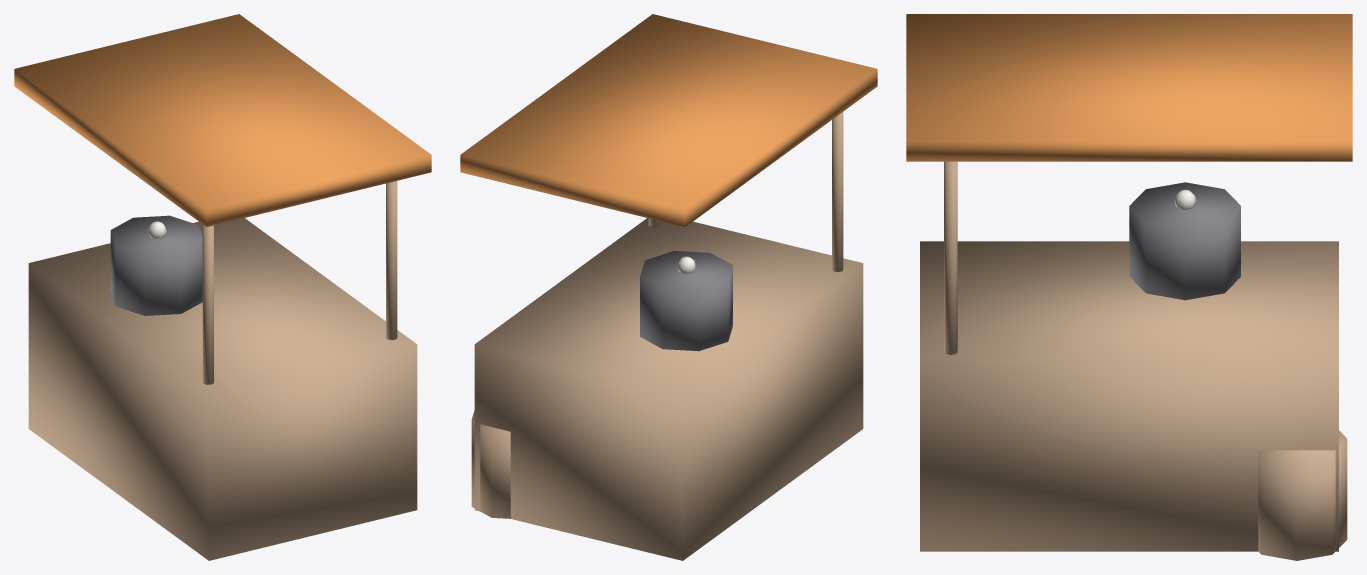
Rendered from food_stall.glb.
3 views of the same model, side by side, from view 1: azimuth 30°, elevation 25°; view 2: azimuth 150°, elevation 25°; view 3: azimuth 270°, elevation 25° (orthographic). The views are drawn at different scales.
Parts seen in each view (by area): view 1: counter, awning, soup_pot, p_l, p_r; view 2: counter, awning, soup_pot, stool, p_l; view 3: counter, awning, soup_pot, stool, p_r.
Boxes of the visible parts, left/top/right/bottom form: counter: left=28, top=218, right=417, bottom=560; awning: left=14, top=14, right=431, bottom=226; soup_pot: left=110, top=215, right=202, bottom=315; p_l: left=202, top=224, right=213, bottom=384; p_r: left=386, top=181, right=397, bottom=339; counter: left=474, top=218, right=863, bottom=560; awning: left=460, top=14, right=877, bottom=226; soup_pot: left=640, top=251, right=732, bottom=351; stool: left=471, top=410, right=510, bottom=518; p_l: left=832, top=112, right=843, bottom=271; counter: left=920, top=241, right=1338, bottom=551; awning: left=906, top=14, right=1352, bottom=161; soup_pot: left=1129, top=182, right=1240, bottom=300; stool: left=1258, top=430, right=1347, bottom=560; p_r: left=944, top=161, right=957, bottom=354.
Bounding box in the file's own units: 0.56 × 0.82 × 0.8.
